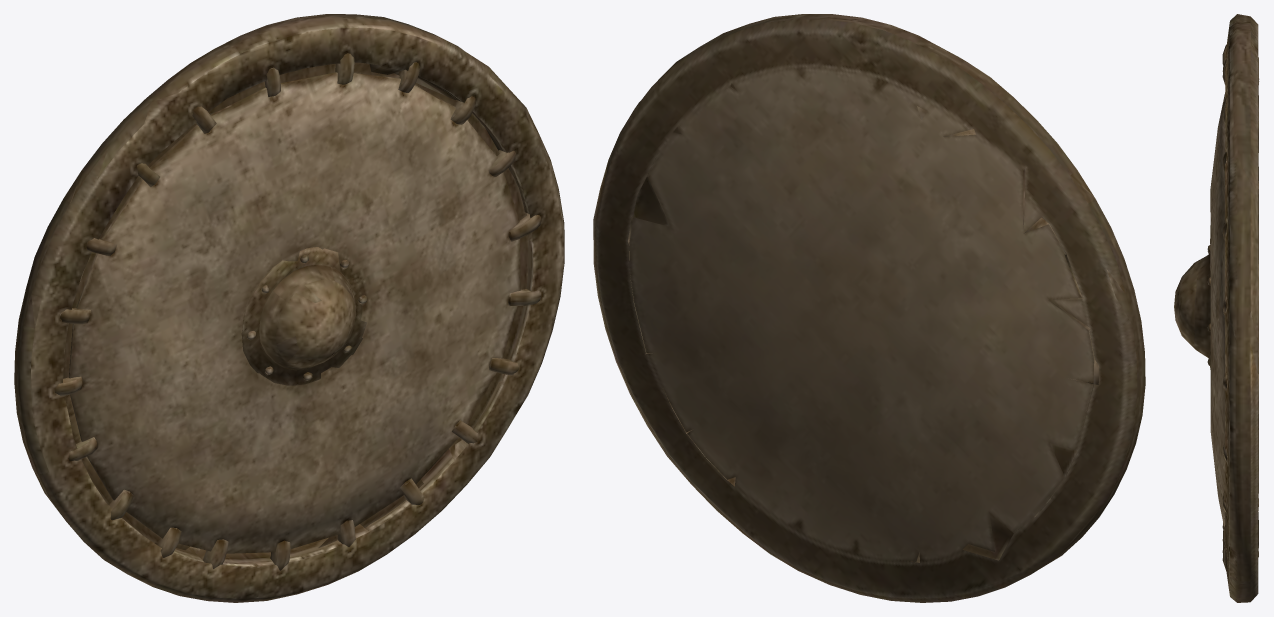
Rendered from hide-shield.glb.
3 renders of one model, left to right at view 1: azimuth 30°, elevation 25°; view 2: azimuth 150°, elevation 25°; view 3: azimuth 270°, elevation 25°, orthographic. The views are drawn at different scales.
Bounding box in the file's own units: 0.9512 × 0.9521 × 0.1387.
1 material, 1 textured.
